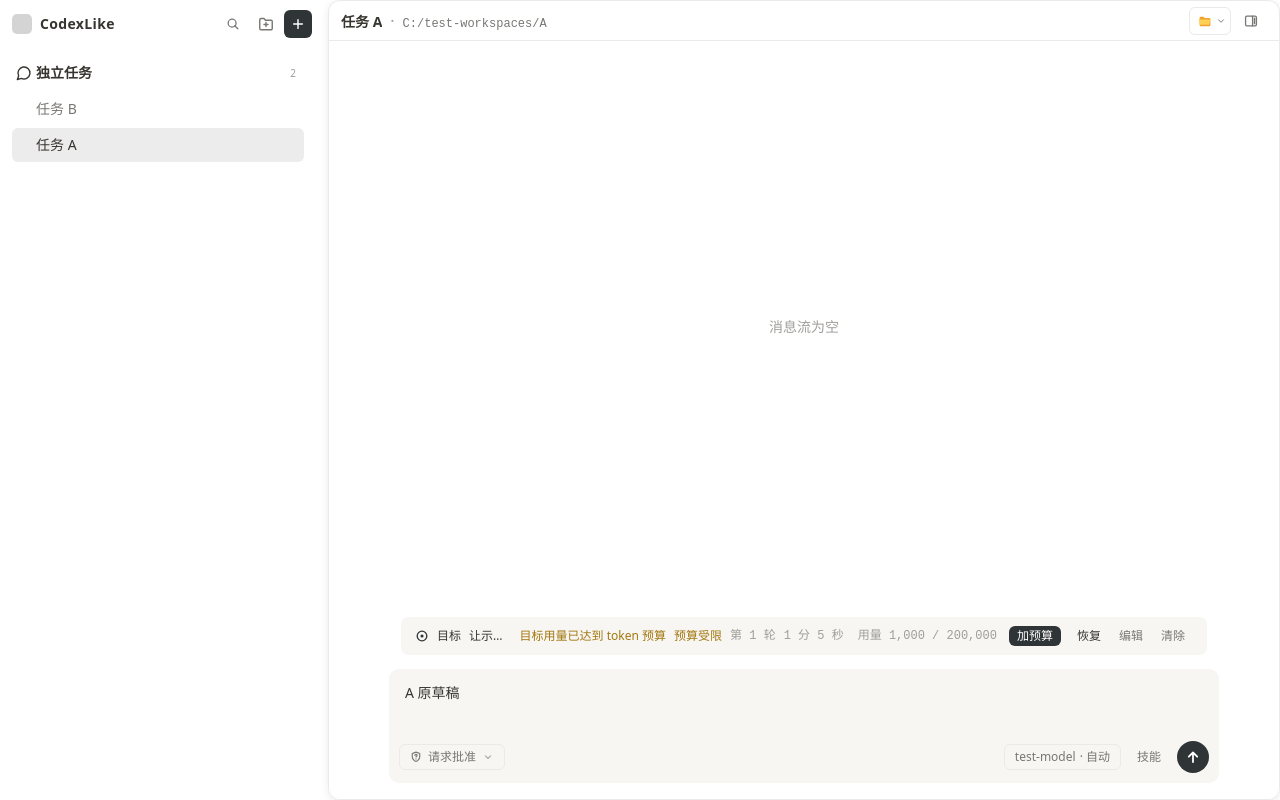
WorkspacePage 目标模式接线（ADR 0035） › 预算受限：进度行写明状态与原因；「加预算」一键提交 goalSetBudget，宿主快照到达后显示新预算而停留状态不变
Expected: the text box with test id "composer-input" holds "A 原草稿", [389,669,1219,735]
Expected: the text with test id "goal-progress-reason" reads "目标用量已达到 token 预算", [520,627,666,644]
Click the button with test id "goal-budget-add".
click(1035, 636)  # box [1009,626,1061,646]
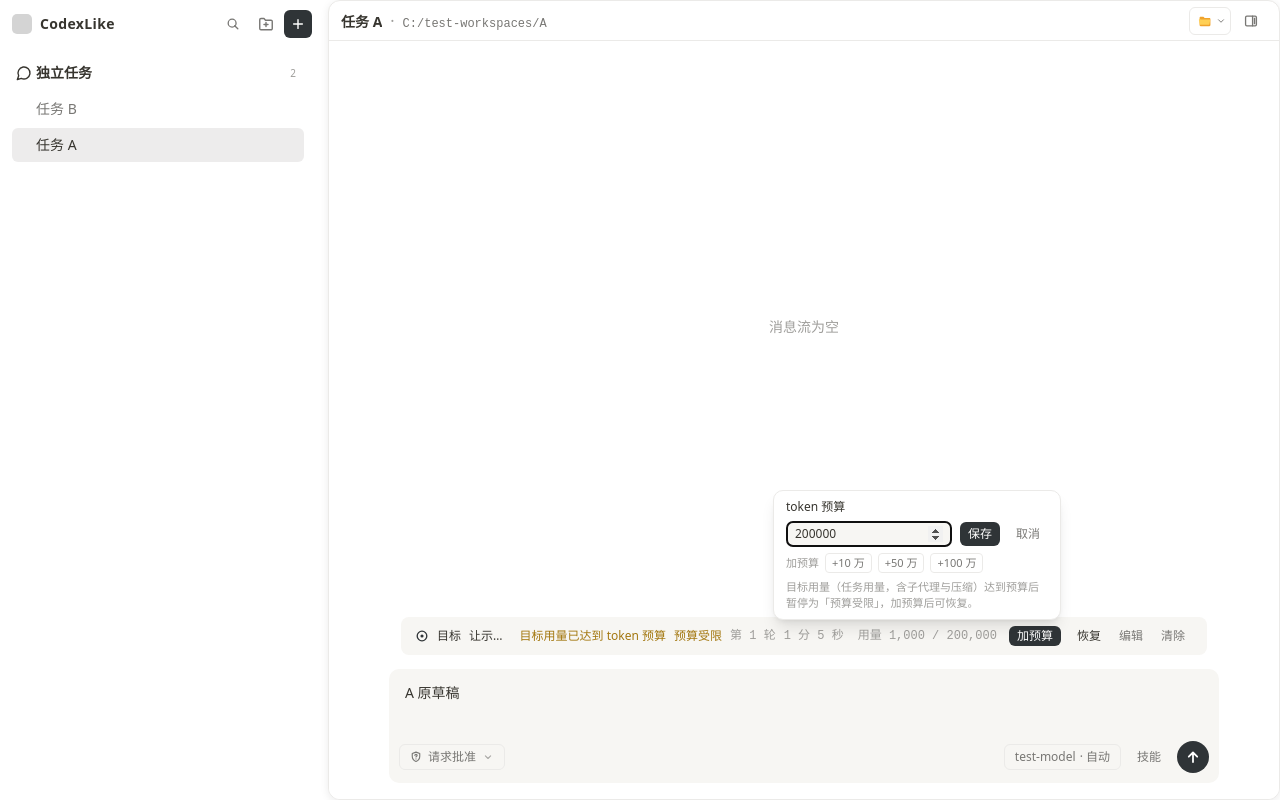
Click the button with test id "goal-budget-quick-add" showing "+10 万".
click(848, 563)  # box [825,553,872,574]
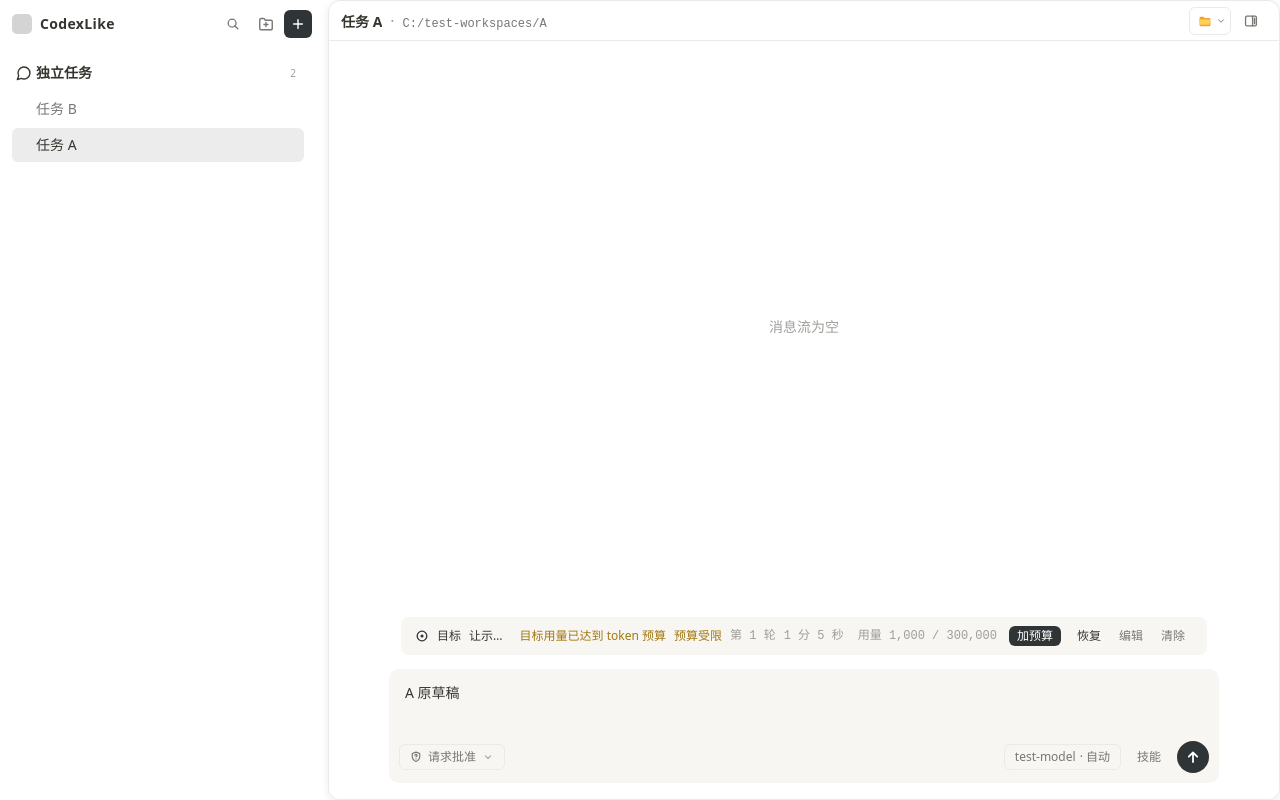
Expected: the text with test id "goal-progress-status" reads "预算受限", [674,627,722,644]
Now the text with test id "goal-budget-limit" reads "300,000", box [946,629,997,643]
